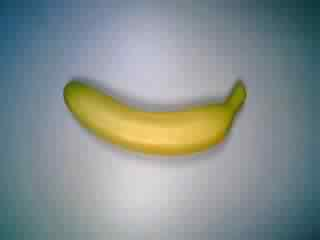banana: (59, 69, 252, 161)
